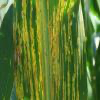Corn leaf blight: (12, 0, 88, 99)
